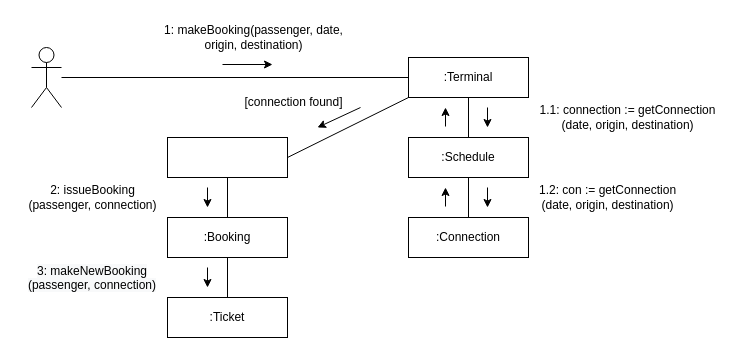
This 744x355 diagram has some shape labels left out. The centre of each missing label's shape, as x and y in pixels:
:RailCompany: point (227, 157)
Passenger: point (46, 77)
